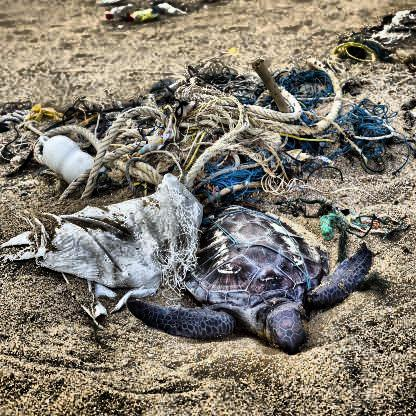Fishing wastes: (111, 69, 329, 175)
Plastic wastes: (43, 129, 92, 186)
